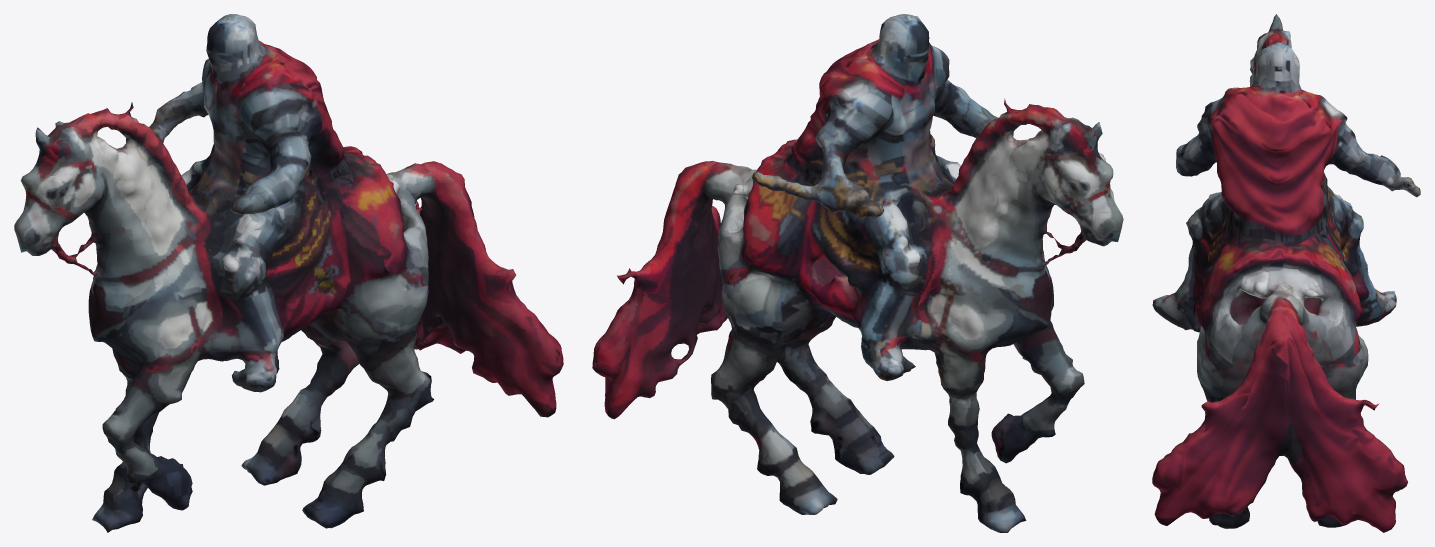
Rendered from orkanslayer78_an_isom_0823171255.fbx.
3 views of the same model, side by side, from view 1: azimuth 30°, elevation 25°; view 2: azimuth 150°, elevation 25°; view 3: azimuth 270°, elevation 25° (orthographic). The views are drawn at different scales.
Parts seen in each view (by area): view 1: Mesh_0; view 2: Mesh_0; view 3: Mesh_0.
Boxes of the visible parts, left/top/right/bottom form: Mesh_0: left=14, top=14, right=563, bottom=532; Mesh_0: left=592, top=14, right=1123, bottom=532; Mesh_0: left=1152, top=14, right=1420, bottom=532.
Size of the model in its own units: 120 by 119 by 64.06.
1 material, 1 textured.
